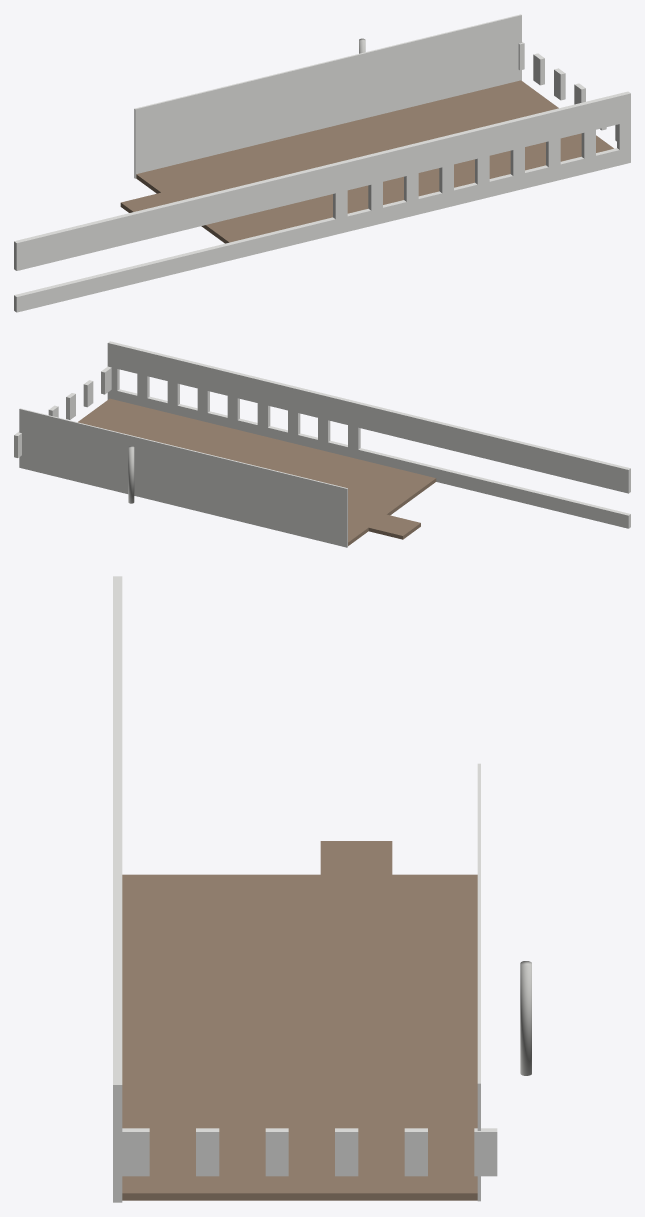
File: SM_Bygg_Helgasetr_P1_O_S.fbx
3 views of the same model, one above another, from view 1: azimuth 30°, elevation 25°; view 2: azimuth 150°, elevation 25°; view 3: azimuth 270°, elevation 25° (orthographic). The views are drawn at different scales.
Parts seen in each view (by area): view 1: SM_Bygg_Helgasetr_P1_O_S; view 2: SM_Bygg_Helgasetr_P1_O_S; view 3: SM_Bygg_Helgasetr_P1_O_S.
Boxes of the visible parts, x1,y1,x2,y2 form: SM_Bygg_Helgasetr_P1_O_S: [14, 14, 630, 312]; SM_Bygg_Helgasetr_P1_O_S: [14, 341, 630, 547]; SM_Bygg_Helgasetr_P1_O_S: [113, 576, 531, 1202].
Size of the model in its own units: 18.08 by 51.9 by 5.6.
